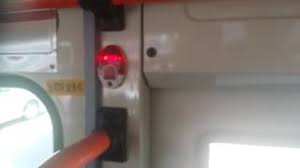bell: (96, 45, 129, 88)
